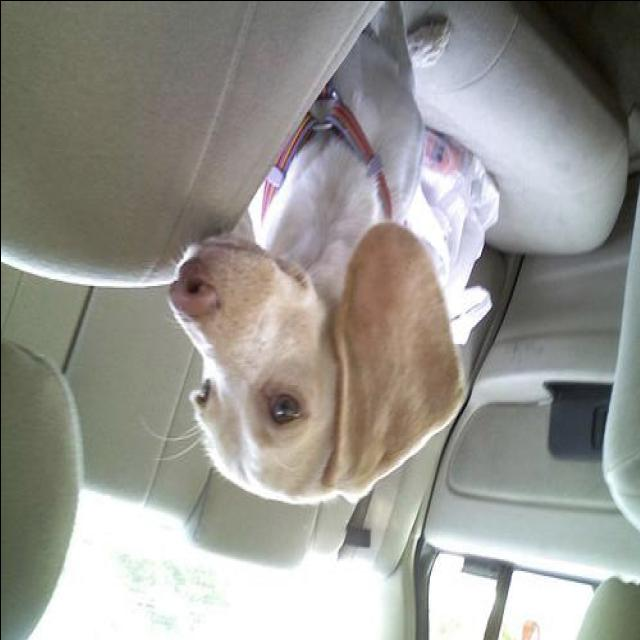beagle: (138, 2, 472, 507)
